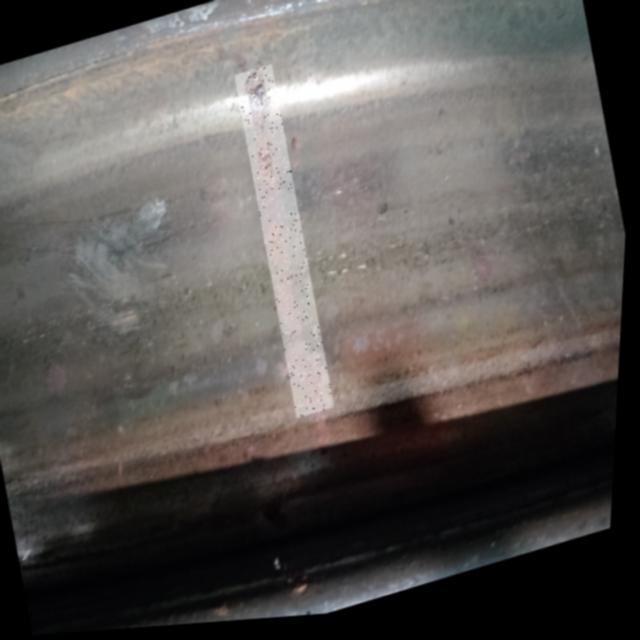Rollerpile: (68, 200, 188, 343)
